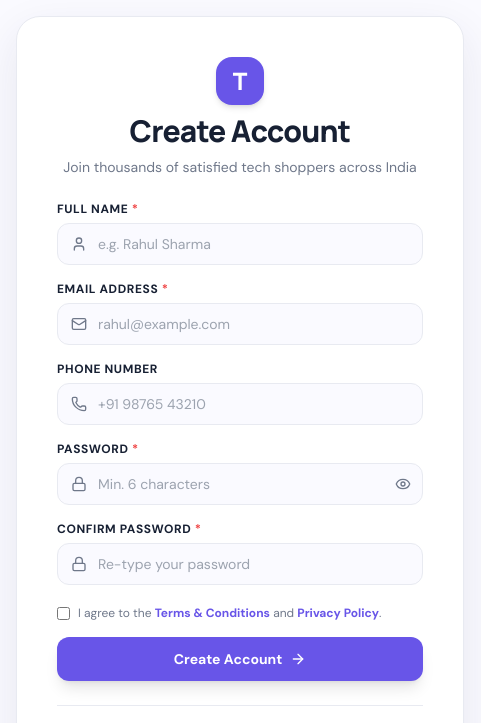
Scenario: RegisterPage Component › displays duplicate email error from backend
Type "Rahul Sharma" into the field with placeholder "e.g. Rahul Sharma" at (240, 244), box [57, 223, 423, 265]
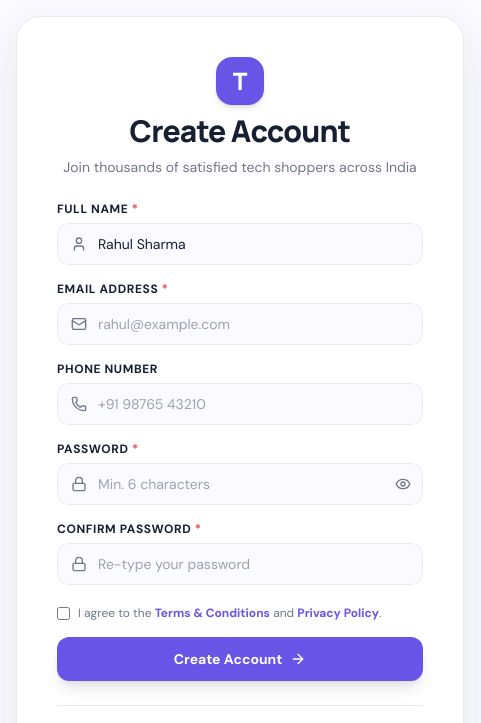
Type "rahul@thinkmart.in" into the field with placeholder "rahul@example.com" at (240, 324), box [57, 303, 423, 345]
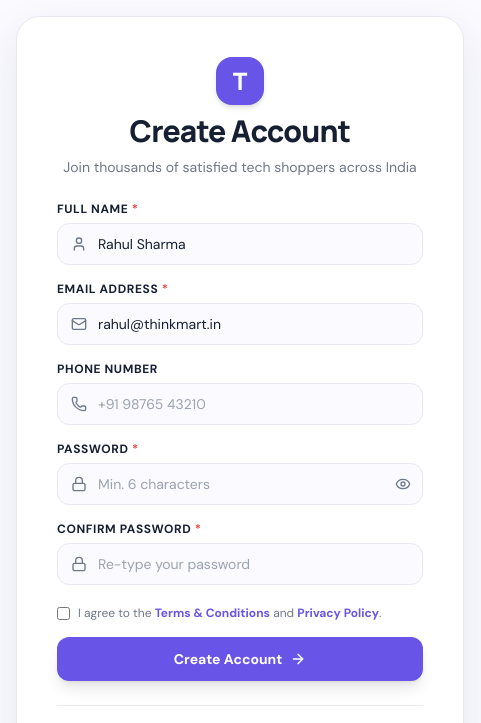
Type "Password123" into the password field with placeholder "Min. 6 characters" at (240, 484), box [57, 463, 423, 505]
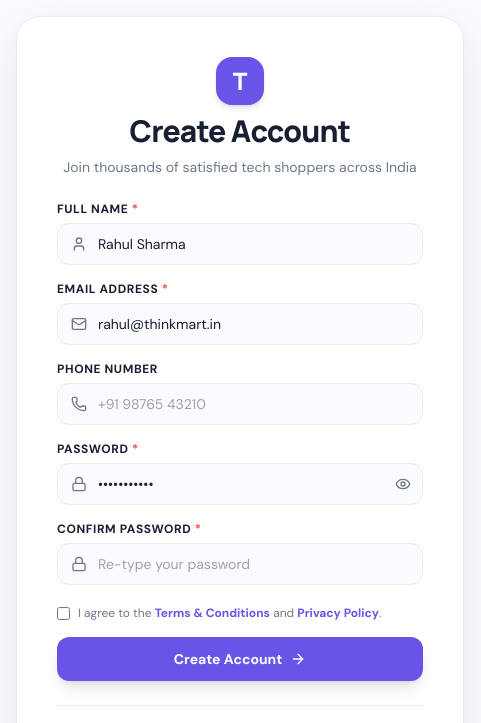
Type "Password123" into the password field with placeholder "Re-type your password" at (240, 564), box [57, 543, 423, 585]
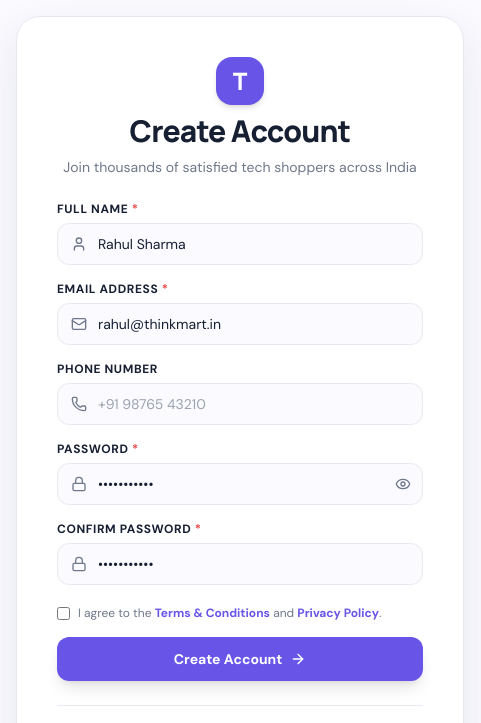
Click the checkbox at (64, 614), box [57, 607, 70, 620]
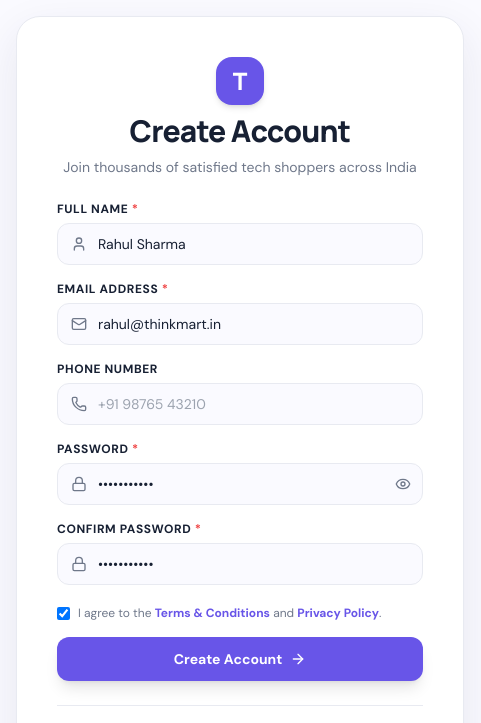
Click the button "Create Account" at (240, 659), box [57, 637, 423, 681]
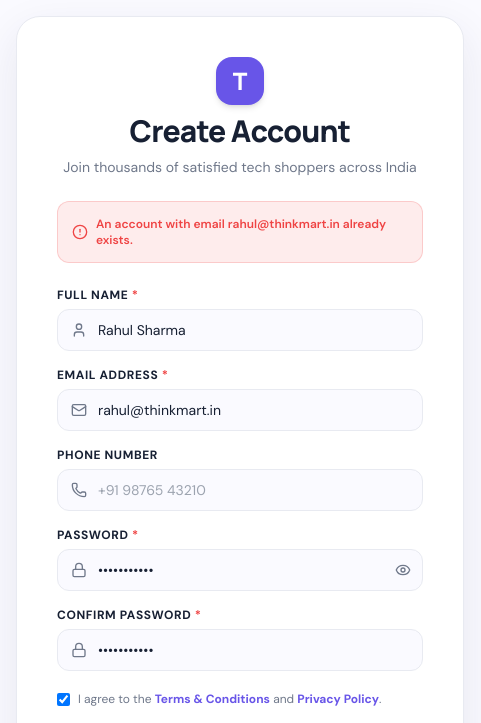
Result: the text "An account with email rahul@thinkmart.in already exists." is shown at [96, 216, 408, 248]
